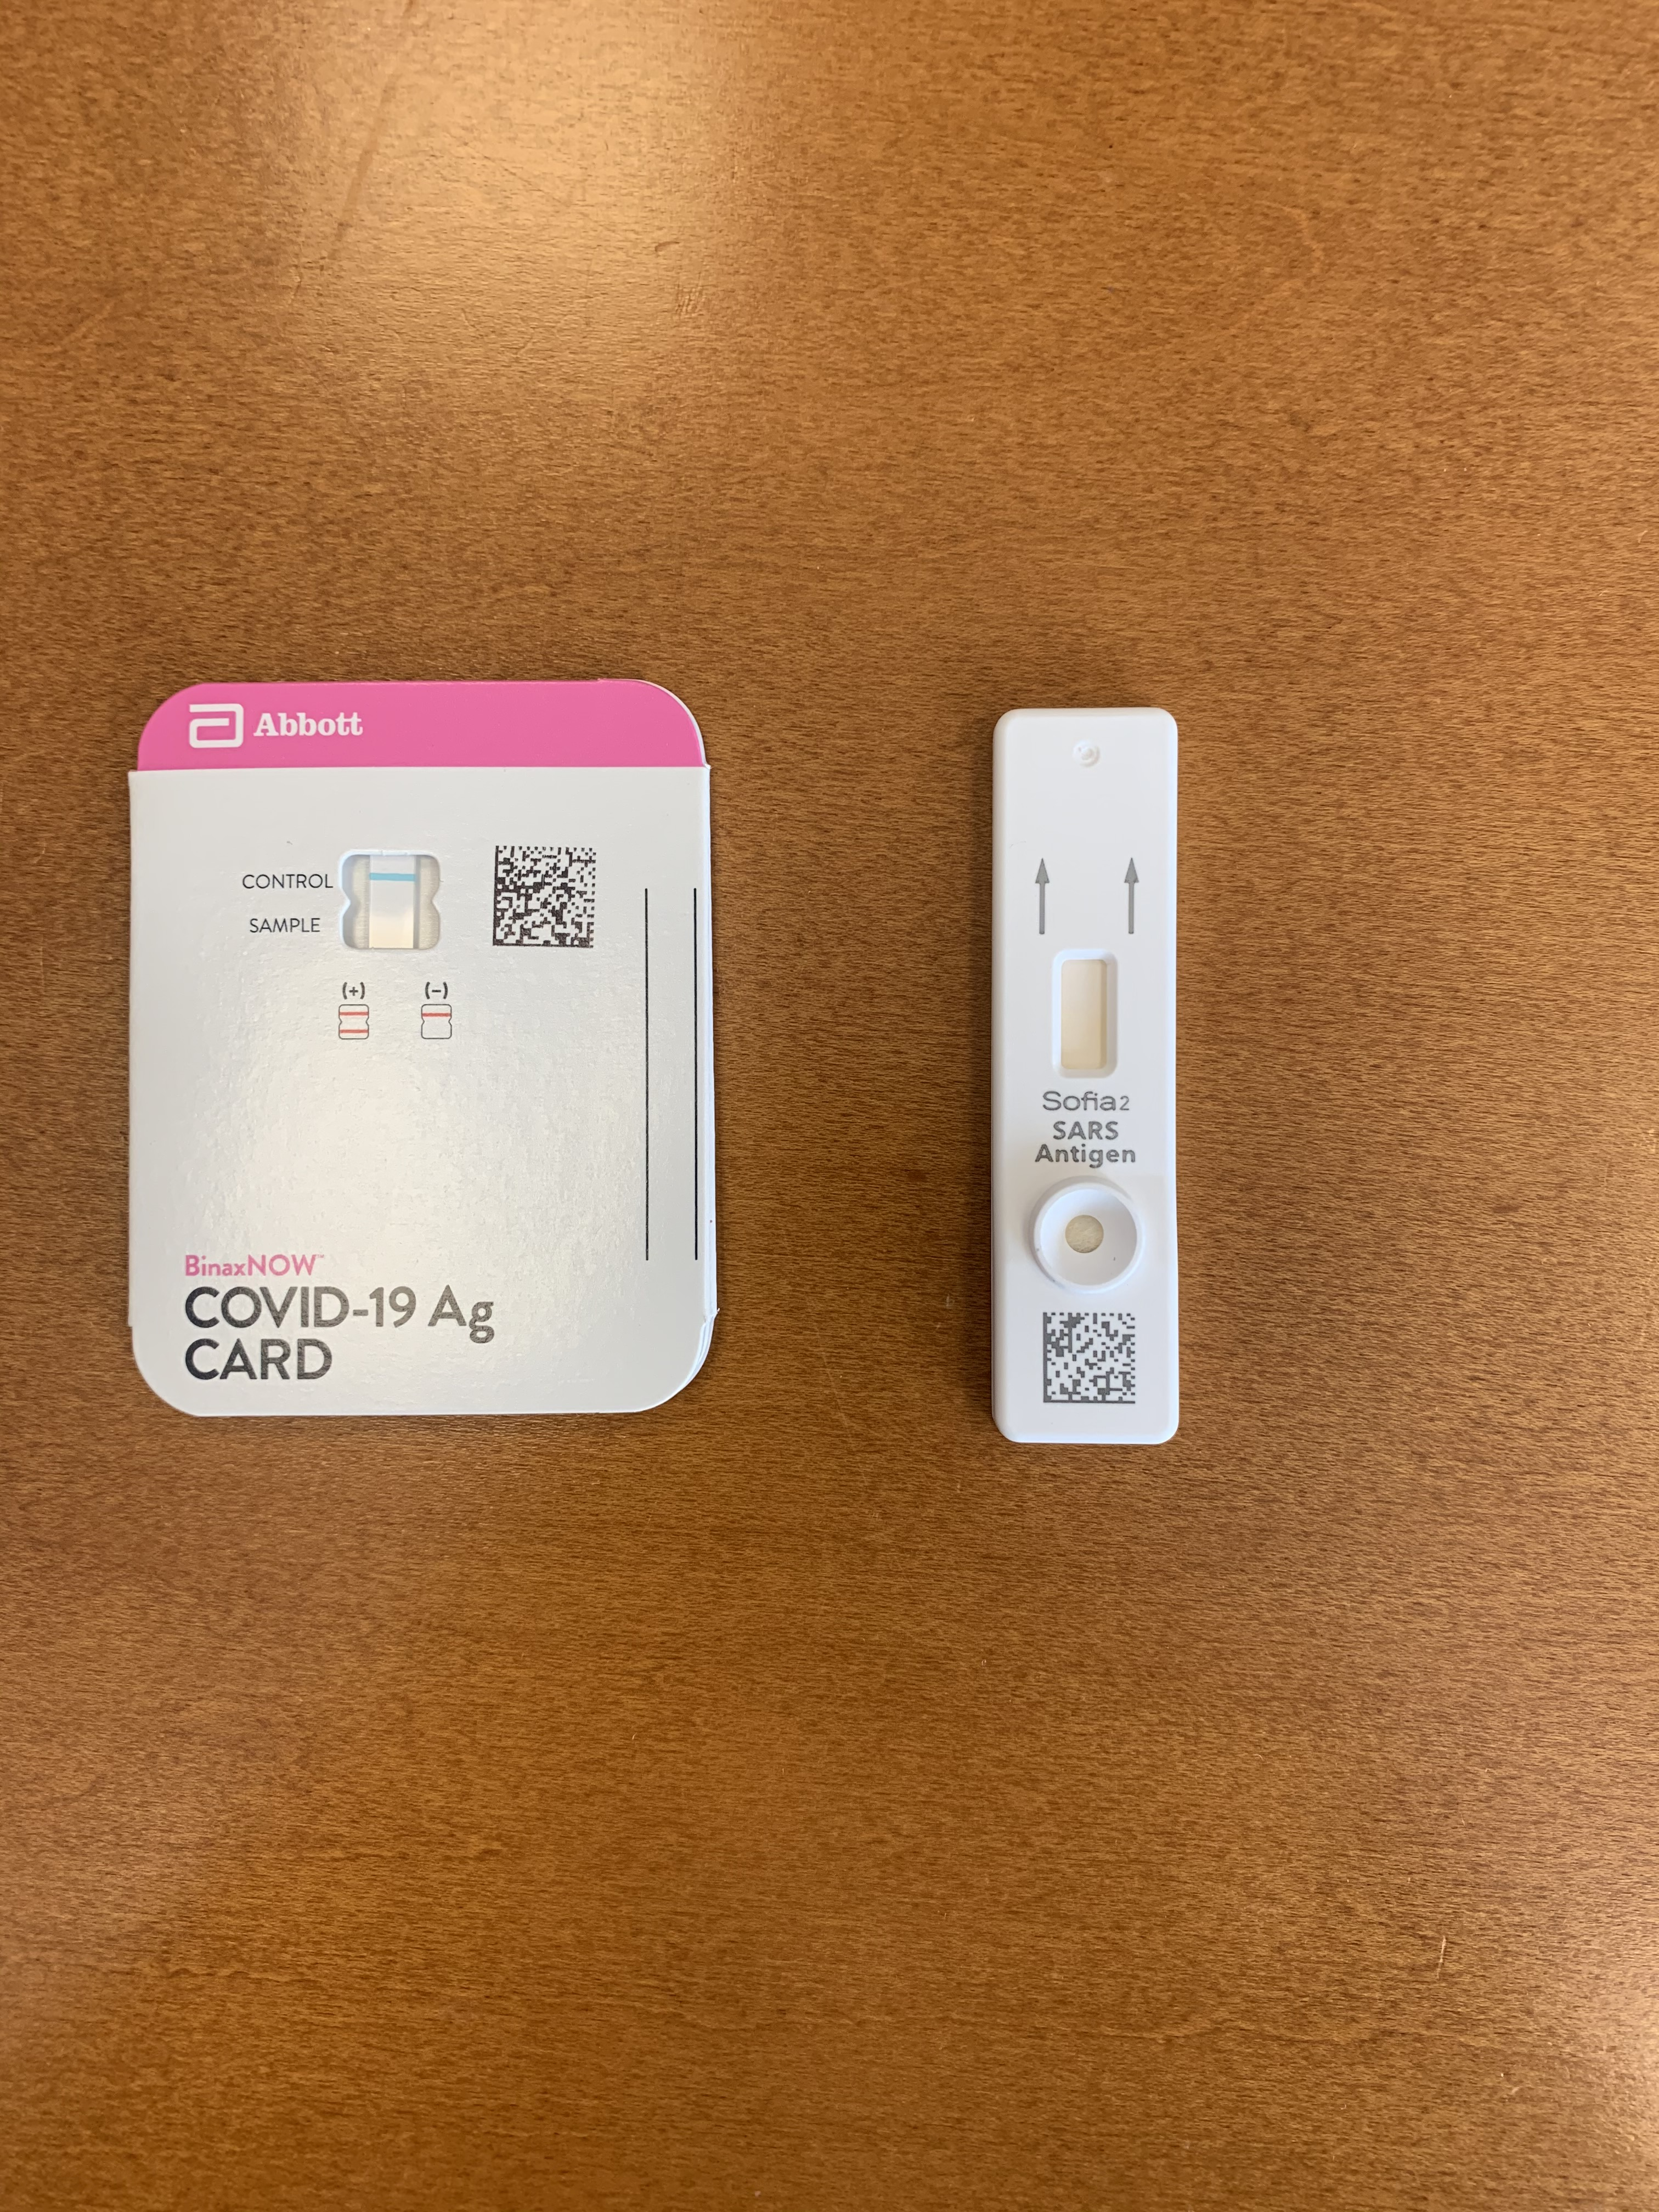binax: (119, 664, 735, 1428)
quidel: (979, 698, 1199, 1451)
